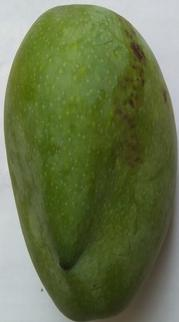Unripe: (1, 1, 179, 322)
